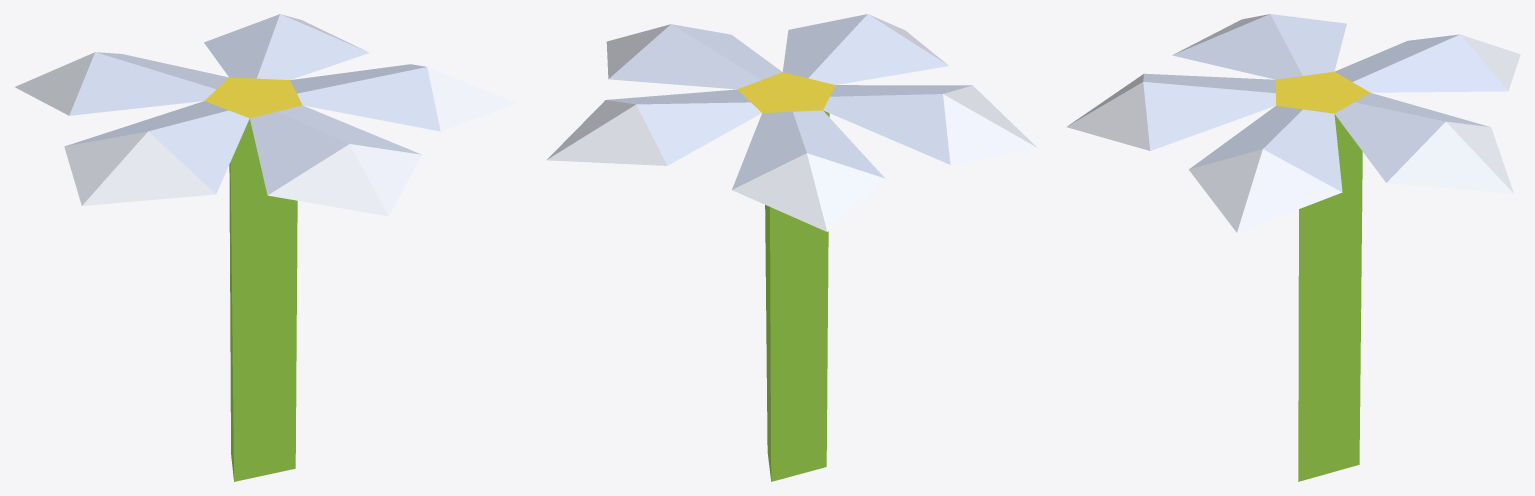
Rendered from flower_white_flat.fbx.
3 views of the same model, side by side, from view 1: azimuth 30°, elevation 25°; view 2: azimuth 150°, elevation 25°; view 3: azimuth 270°, elevation 25° (orthographic).
Visible parts, largest first — view 1: flower_white_flat; view 2: flower_white_flat; view 3: flower_white_flat.
Part boxes in pixels (box(x1,y1,x2,y2)): flower_white_flat: box(15, 14, 516, 481); flower_white_flat: box(546, 14, 1037, 481); flower_white_flat: box(1066, 14, 1520, 481).
Size of the model in its own units: 15.46 by 13.19 by 13.98.
